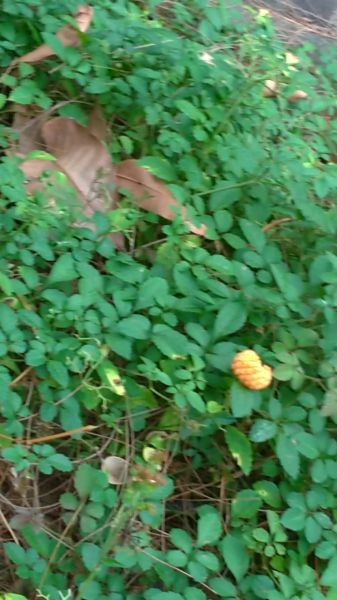eggs: (227, 344, 279, 395)
